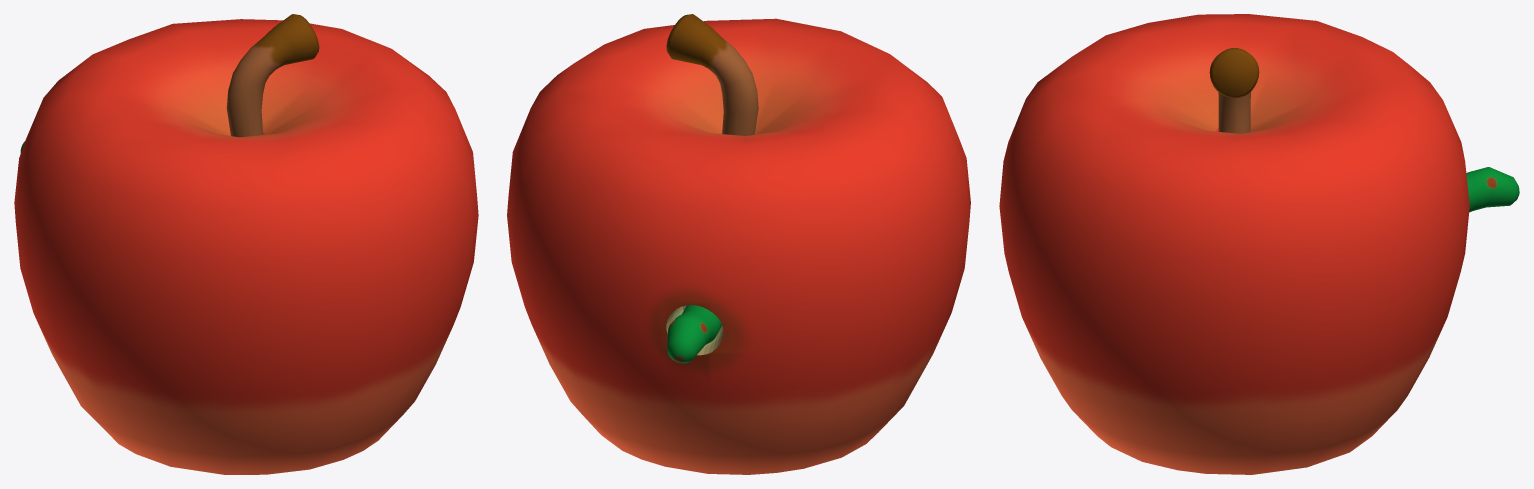
The model's file is applehi.fbx.
3 views of the same model, side by side, from view 1: azimuth 30°, elevation 25°; view 2: azimuth 150°, elevation 25°; view 3: azimuth 270°, elevation 25° (orthographic).
Parts seen in each view (by area): view 1: Cylinder.001; view 2: Cylinder.001; view 3: Cylinder.001.
Part boxes in pixels (bbox=[...]): Cylinder.001: bbox=[14, 14, 478, 474]; Cylinder.001: bbox=[507, 14, 970, 474]; Cylinder.001: bbox=[999, 14, 1519, 474].
Bounding box in the file's own units: 232 × 218 × 256.
